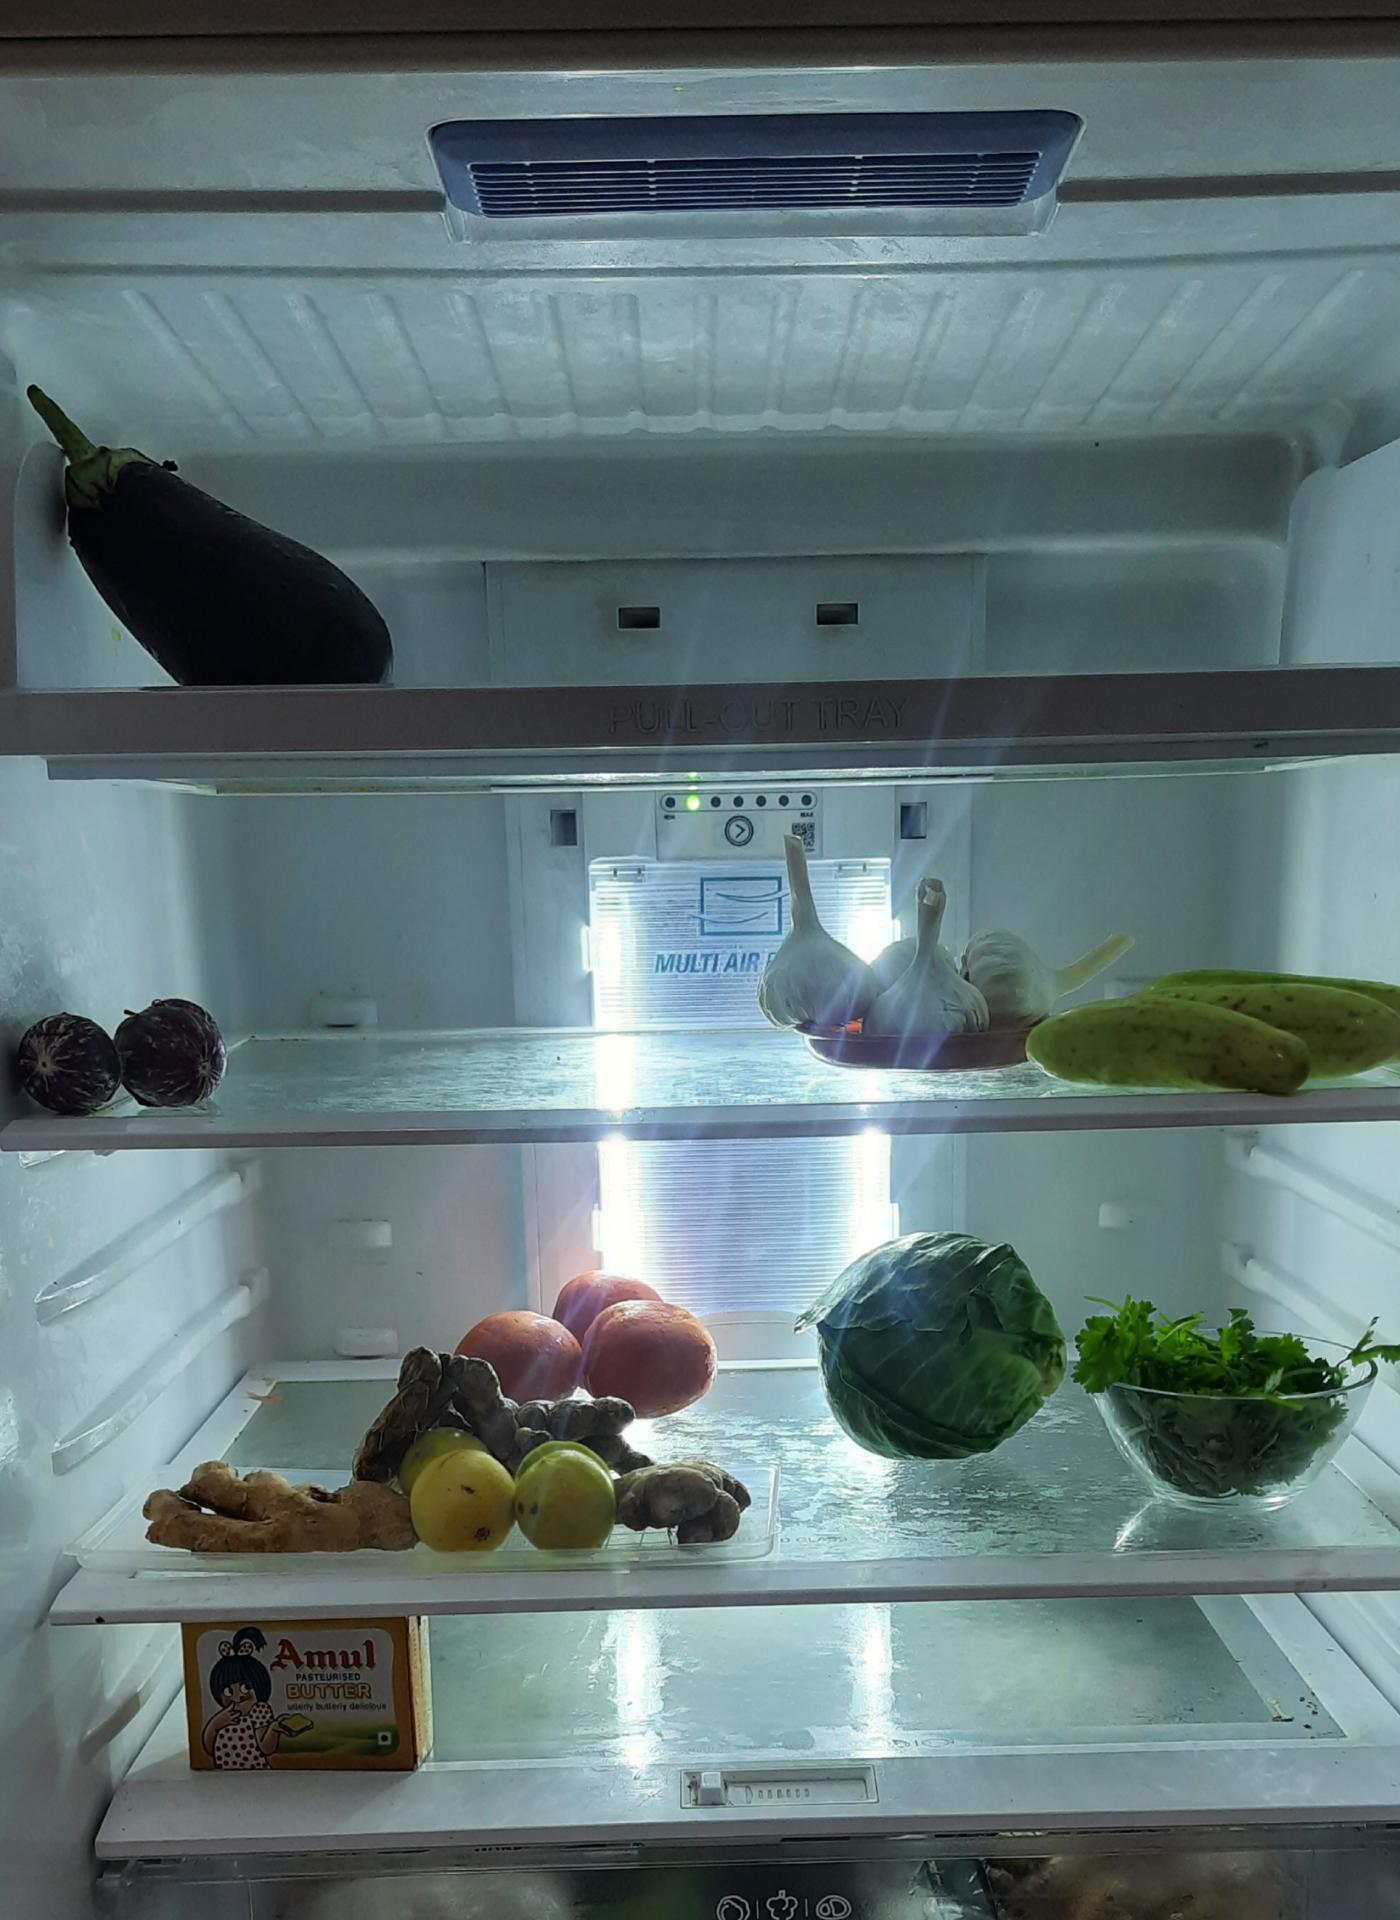brinjal: (9, 368, 417, 683), (9, 990, 225, 1121)
butter: (180, 1614, 435, 1777)
cabbage: (814, 1233, 1069, 1462)
coriander: (1088, 1297, 1387, 1491)
cucumber: (1018, 973, 1400, 1094)
garlic: (766, 830, 1123, 1038)
ginger: (370, 1352, 771, 1535), (139, 1456, 397, 1556)
lemon: (407, 1430, 616, 1552)
tomato: (462, 1263, 713, 1413)
